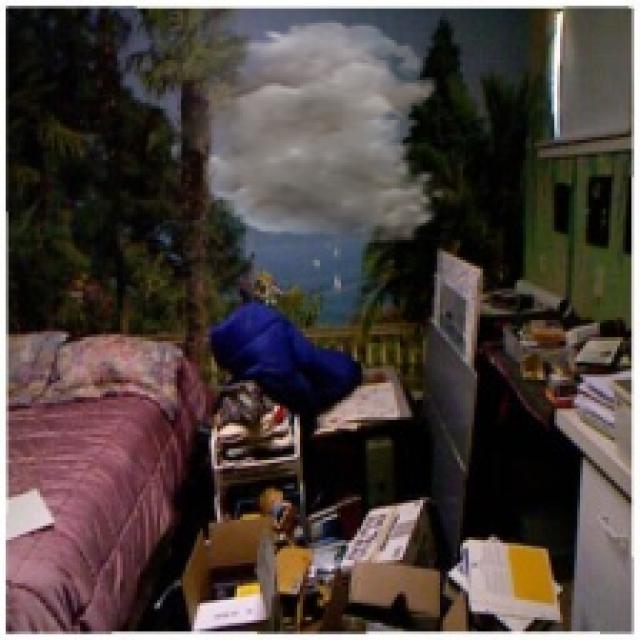smoke: (168, 20, 446, 246)
